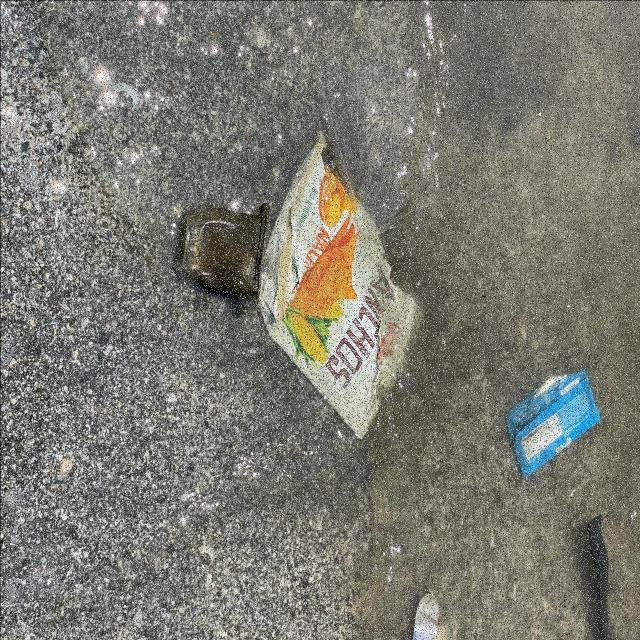plastic_waste: (257, 142, 418, 442), (506, 370, 602, 480), (175, 202, 271, 303)
